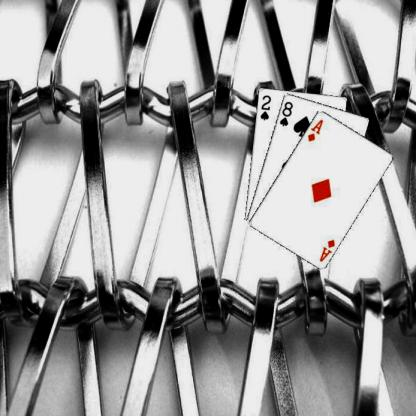2S: (258, 92, 272, 121)
8S: (277, 99, 294, 127)
AD: (316, 236, 336, 262), (305, 116, 324, 143)
